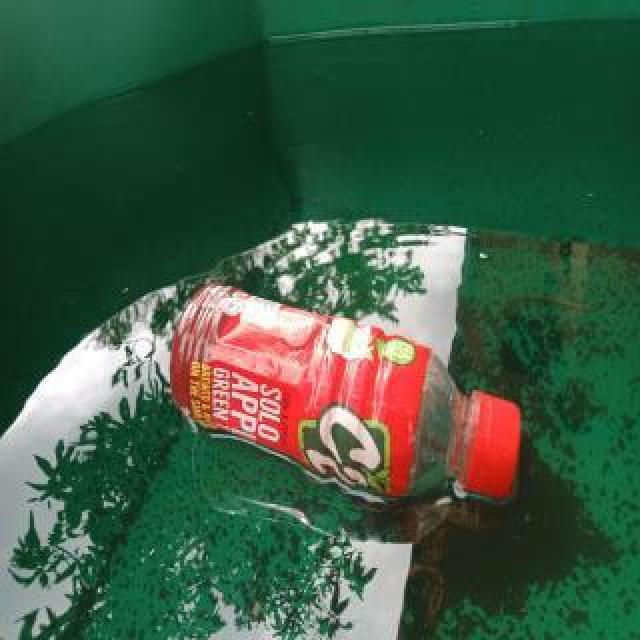bottle: (167, 276, 521, 506)
